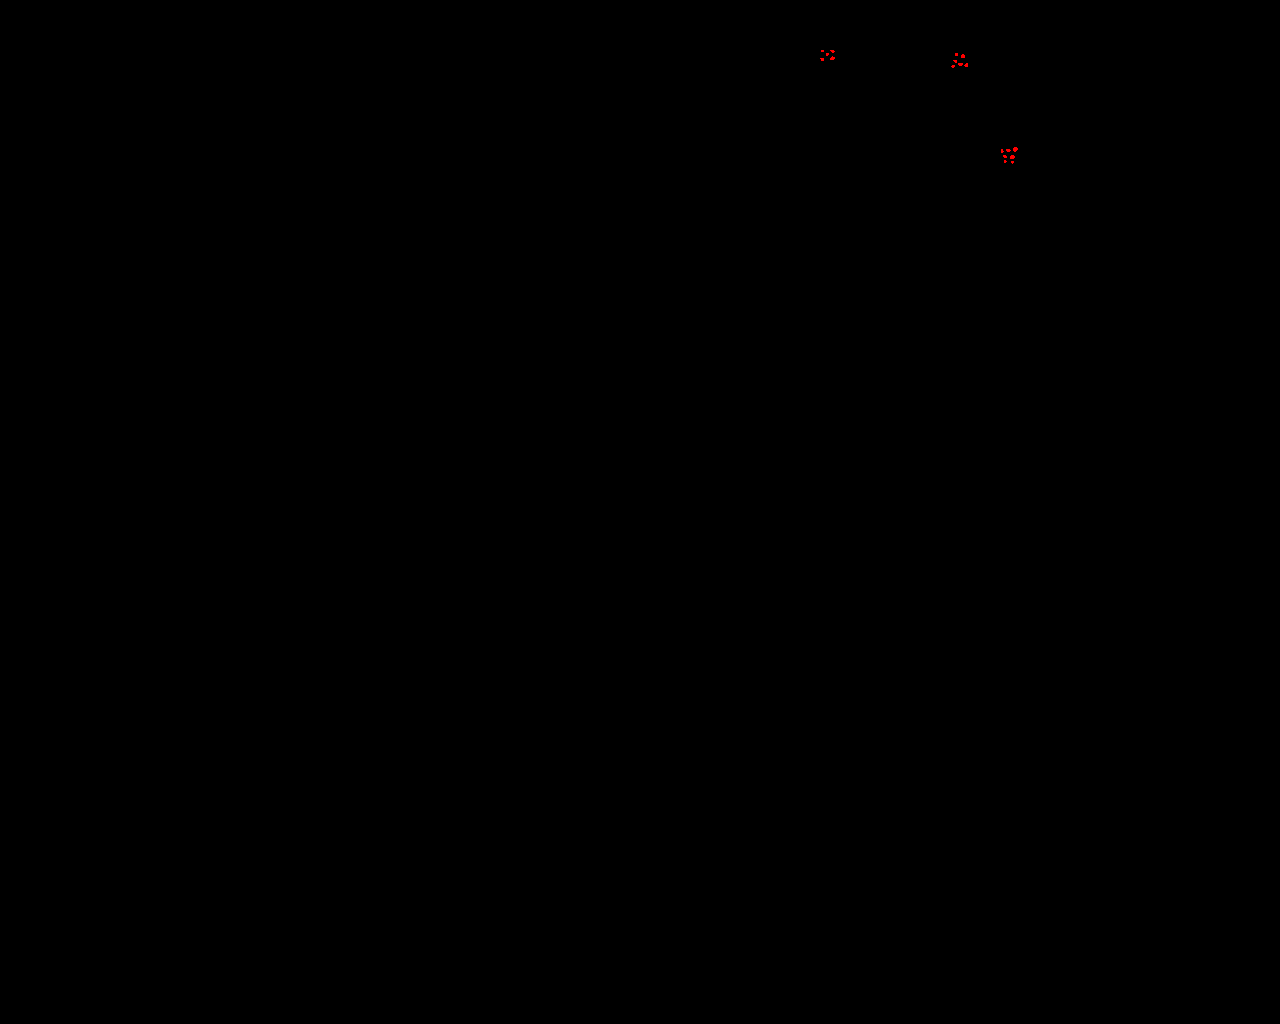Target: (1013, 147, 1018, 152), (961, 54, 965, 59), (1010, 155, 1015, 159), (830, 50, 835, 53), (830, 56, 835, 60), (958, 63, 963, 66), (953, 60, 957, 63), (964, 63, 968, 67), (951, 65, 955, 68), (1003, 155, 1007, 158), (1006, 149, 1011, 152), (955, 53, 958, 56), (1001, 149, 1004, 153), (1004, 160, 1007, 163), (820, 59, 824, 61), (821, 50, 824, 52), (827, 53, 829, 56), (1011, 161, 1014, 164)
